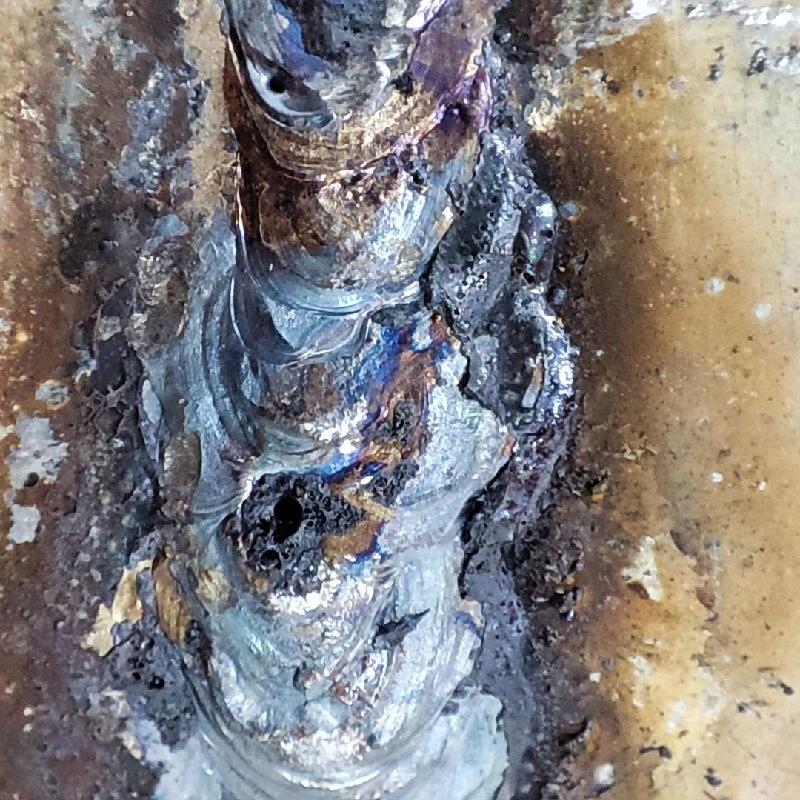Surface_pores: (238, 471, 348, 580), (248, 54, 310, 113)
